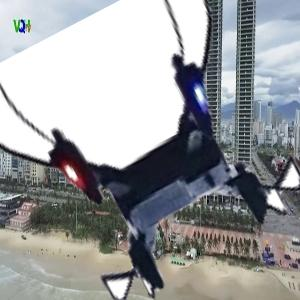drone: (5, 5, 293, 293)
